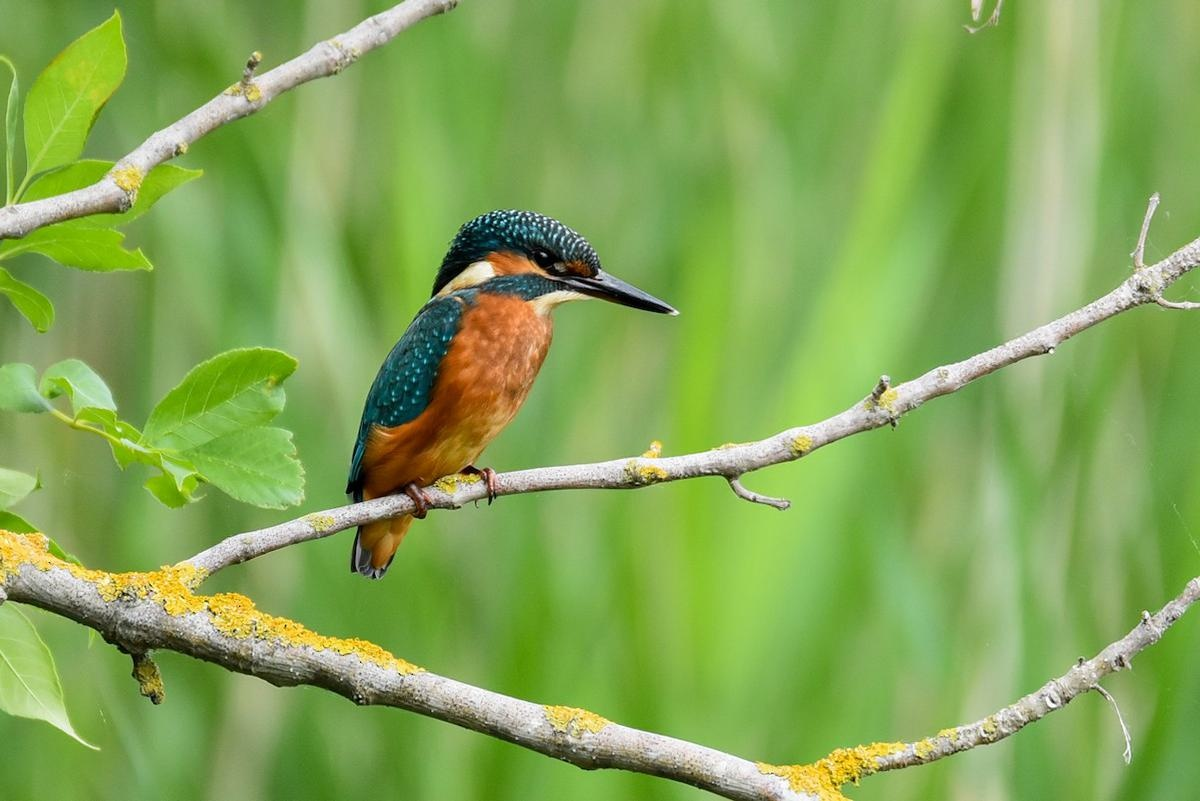kingfisher: (358, 198, 677, 574)
